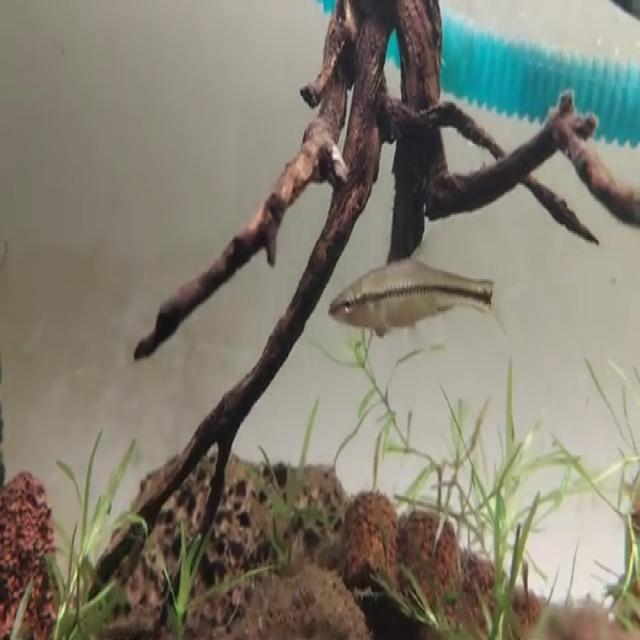Cakil Baligi: (323, 239, 509, 342)
